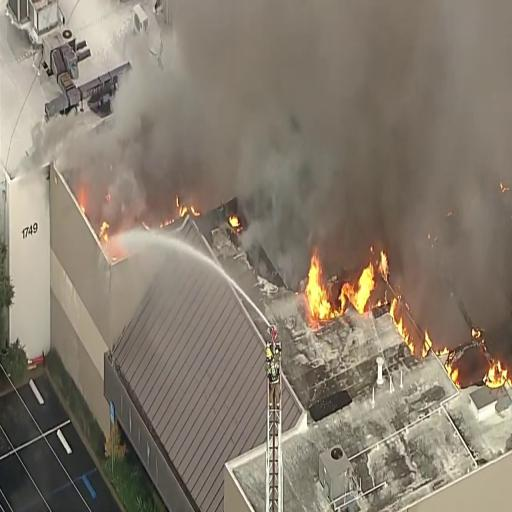fire: (300, 252, 387, 320)
smoke: (249, 0, 461, 201)
